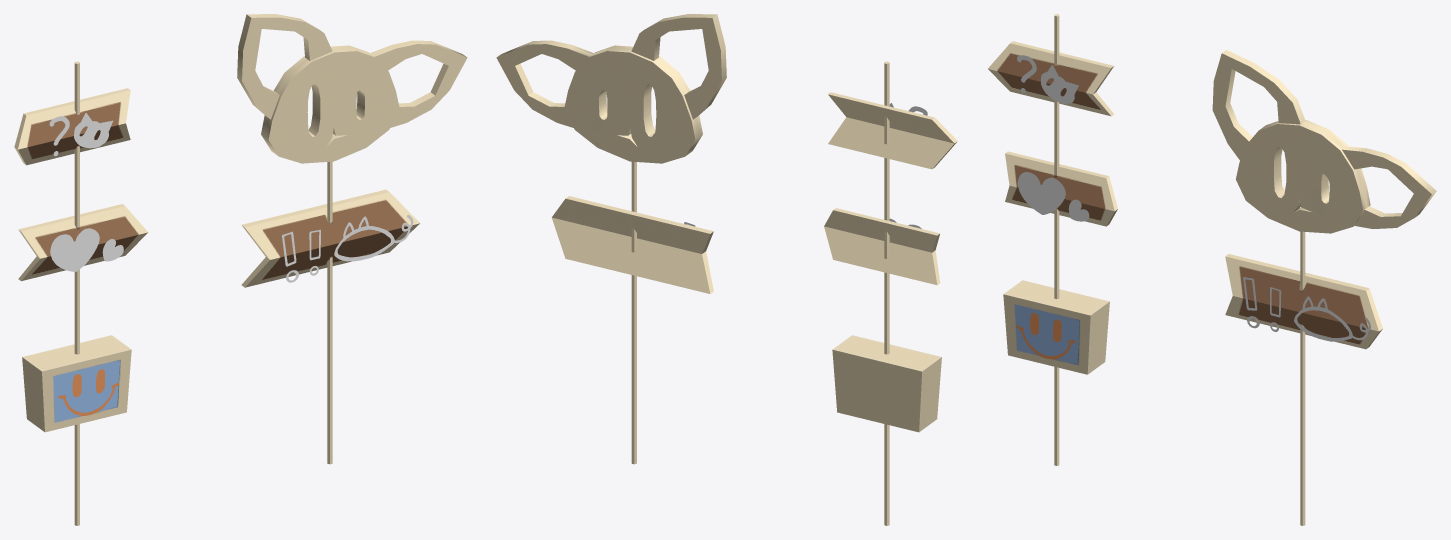
3 renders of one model, left to right at view 1: azimuth 30°, elevation 25°; view 2: azimuth 150°, elevation 25°; view 3: azimuth 330°, elevation 25°, orthographic. The views are drawn at different scales.
Parts seen in each view (by area): view 1: Cylinder003, Plane003, Box001, Plane005, Plane001, Cylinder001, Plane007, Cylinder002, Plane008, Plane006, Plane009; view 2: Cylinder003, Plane003, Box001, Plane001, Plane005, Cylinder001, Cylinder002; view 3: Cylinder003, Plane003, Box001, Plane005, Plane001, Cylinder001, Plane007, Cylinder002, Plane008, Plane006, Plane009.
Boxes of the visible parts, x1=… form: Cylinder003: x1=237, y1=14, x2=467, y2=163; Plane003: x1=241, y1=189, x2=420, y2=287; Box001: x1=22, y1=335, x2=131, y2=432; Plane005: x1=14, y1=88, x2=130, y2=165; Plane001: x1=18, y1=204, x2=148, y2=281; Cylinder001: x1=74, y1=61, x2=79, y2=525; Plane007: x1=50, y1=228, x2=123, y2=271; Cylinder002: x1=327, y1=161, x2=332, y2=464; Plane008: x1=282, y1=215, x2=413, y2=282; Plane006: x1=49, y1=113, x2=112, y2=156; Plane009: x1=58, y1=369, x2=119, y2=415; Cylinder003: x1=496, y1=14, x2=726, y2=163; Plane003: x1=551, y1=196, x2=713, y2=293; Box001: x1=832, y1=335, x2=941, y2=432; Plane001: x1=824, y1=208, x2=940, y2=285; Plane005: x1=828, y1=92, x2=957, y2=169; Cylinder001: x1=884, y1=61, x2=889, y2=525; Cylinder002: x1=631, y1=161, x2=636, y2=464; Cylinder003: x1=1212, y1=50, x2=1436, y2=233; Plane003: x1=1225, y1=254, x2=1382, y2=349; Box001: x1=1003, y1=280, x2=1109, y2=374; Plane005: x1=988, y1=41, x2=1113, y2=116; Plane001: x1=1005, y1=151, x2=1117, y2=226; Cylinder001: x1=1054, y1=14, x2=1059, y2=465; Plane007: x1=1017, y1=172, x2=1089, y2=221; Cylinder002: x1=1300, y1=231, x2=1305, y2=525; Plane008: x1=1243, y1=277, x2=1370, y2=341; Plane006: x1=1017, y1=55, x2=1078, y2=104; Plane009: x1=1016, y1=312, x2=1075, y2=359.
Size of the model in its own units: 212 by 208 by 17.31.
